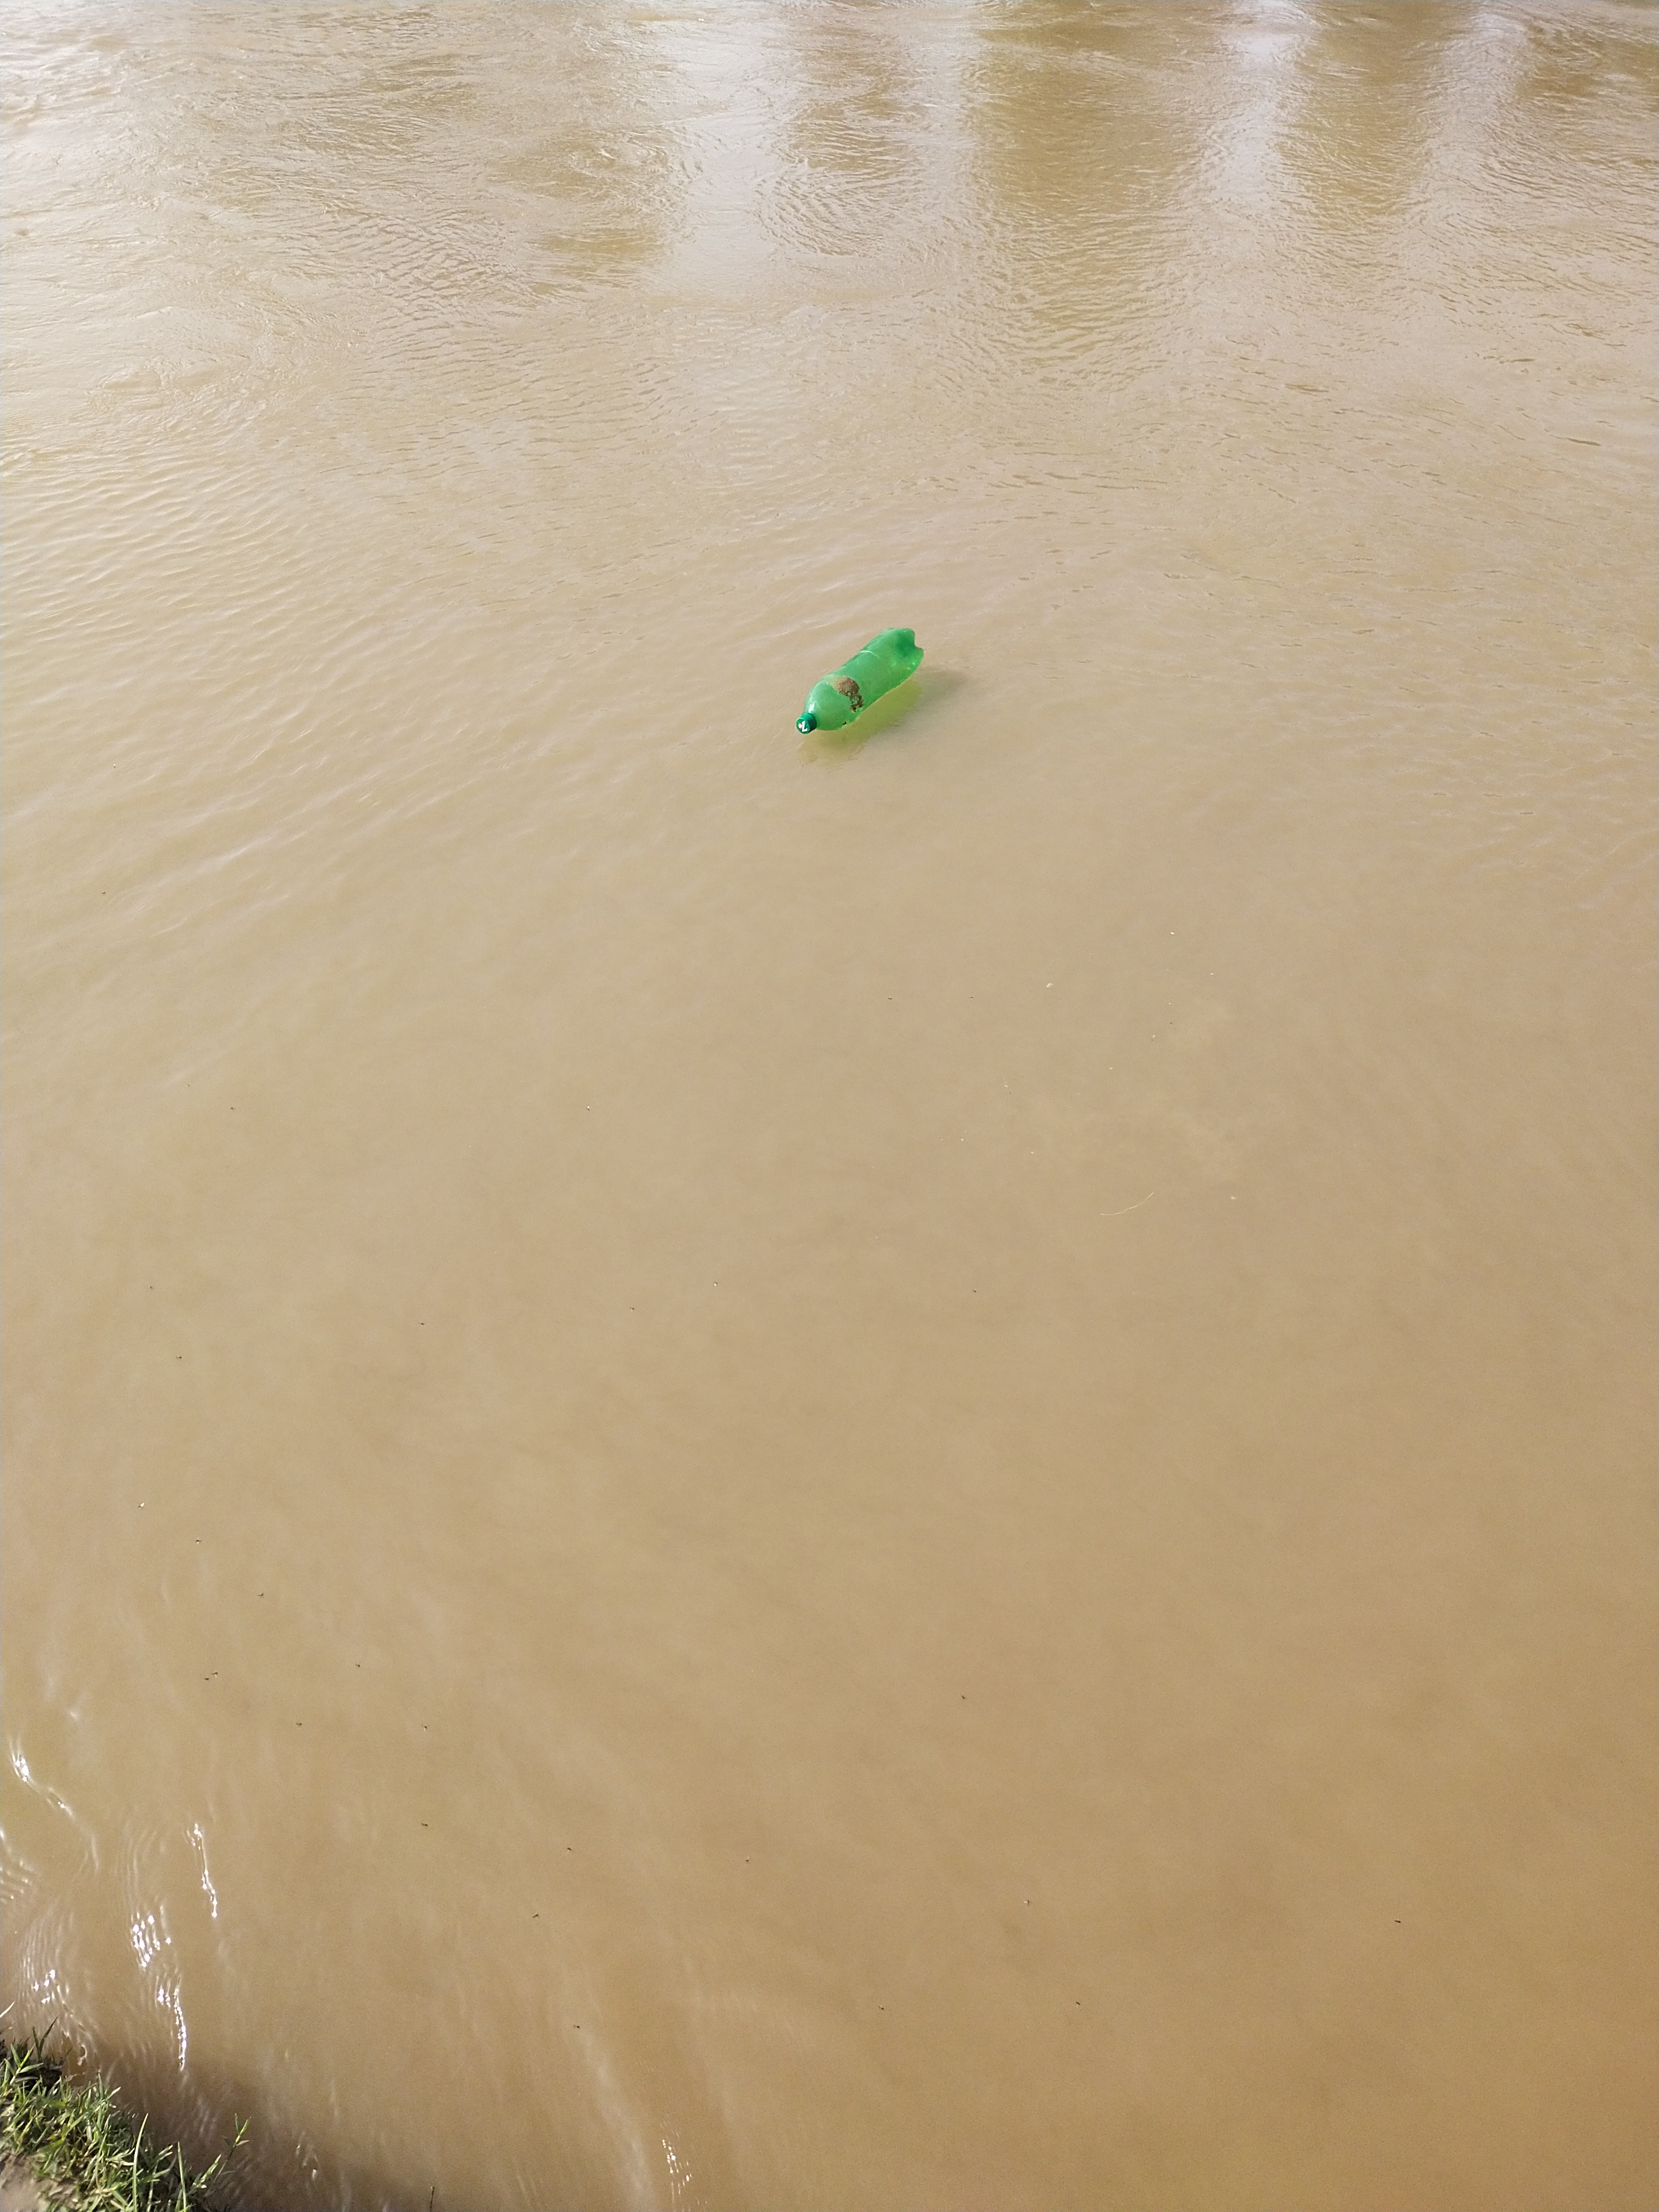Plastic Bottle: (795, 627, 924, 733)
